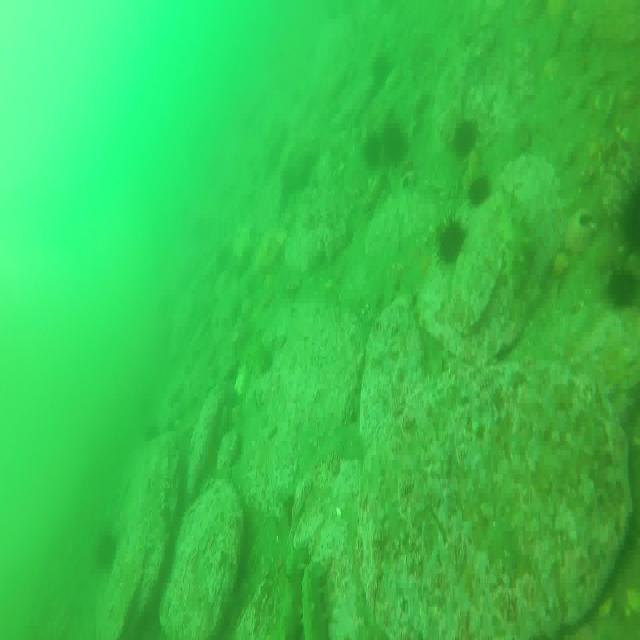echinus: (616, 182, 640, 261), (435, 221, 465, 267), (380, 118, 407, 168), (610, 265, 640, 310), (93, 522, 117, 572), (452, 120, 479, 159), (360, 130, 384, 173), (469, 173, 493, 209)
holothurian: (300, 562, 332, 640), (282, 544, 308, 640), (238, 337, 273, 373)
